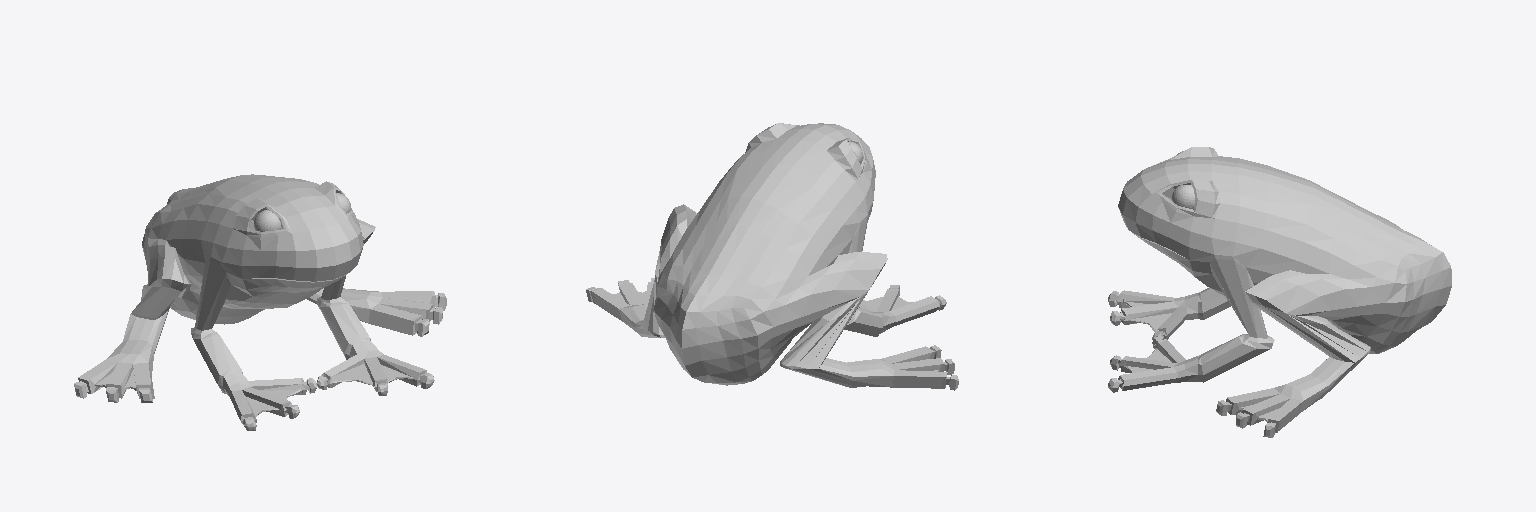
The model's file is frog.obj.
The picture shows the model from 3 angles: view 1: azimuth 30°, elevation 25°; view 2: azimuth 150°, elevation 25°; view 3: azimuth 270°, elevation 25°; orthographic projection.
Parts seen in each view (by area): view 1: MDL Obj1; view 2: MDL Obj1; view 3: MDL Obj1.
Boxes of the visible parts, box(x1,y1,x2,y2) form: MDL Obj1: box(74, 174, 446, 430); MDL Obj1: box(586, 123, 958, 390); MDL Obj1: box(1108, 147, 1451, 437).
Bounding box in the file's own units: 88.7 × 42.35 × 71.29.